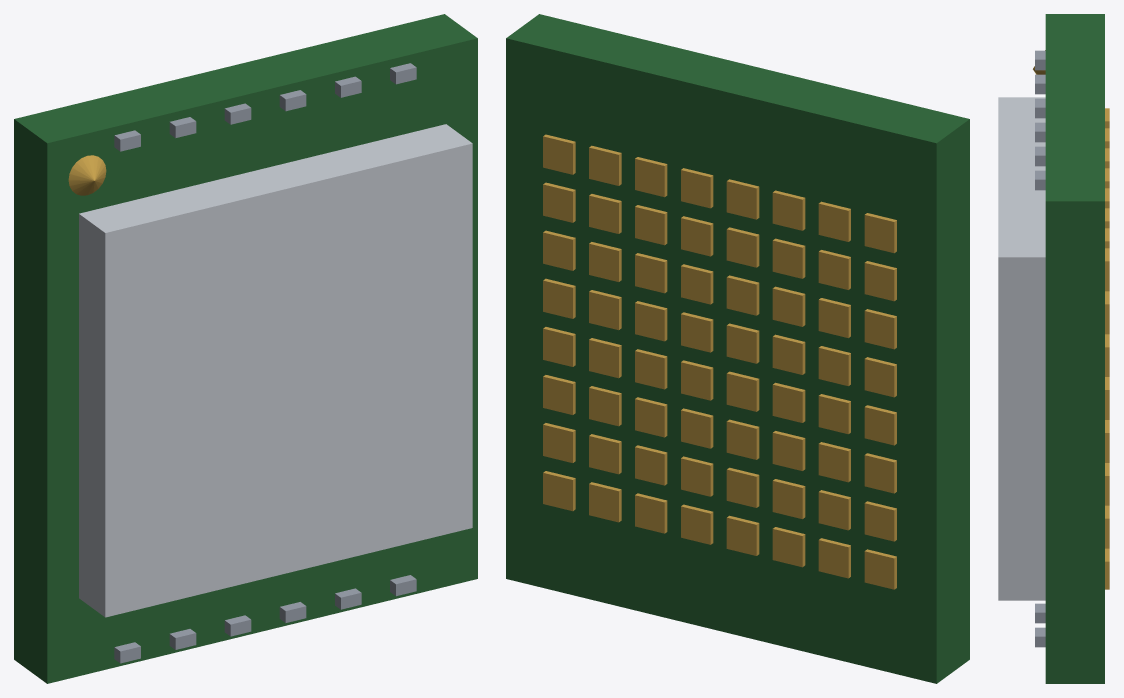
The model's file is cpu_lga.glb.
3 views of the same model, side by side, from view 1: azimuth 30°, elevation 25°; view 2: azimuth 150°, elevation 25°; view 3: azimuth 270°, elevation 25° (orthographic). The views are drawn at different scales.
Parts seen in each view (by area): view 1: cpu_lga; view 2: cpu_lga; view 3: cpu_lga.
Part boxes in pixels (<box>): cpu_lga: <box>14,14,477,683</box>; cpu_lga: <box>506,14,969,683</box>; cpu_lga: <box>998,14,1109,683</box>.
Bounding box in the file's own units: 0.375 × 0.45 × 0.094.
